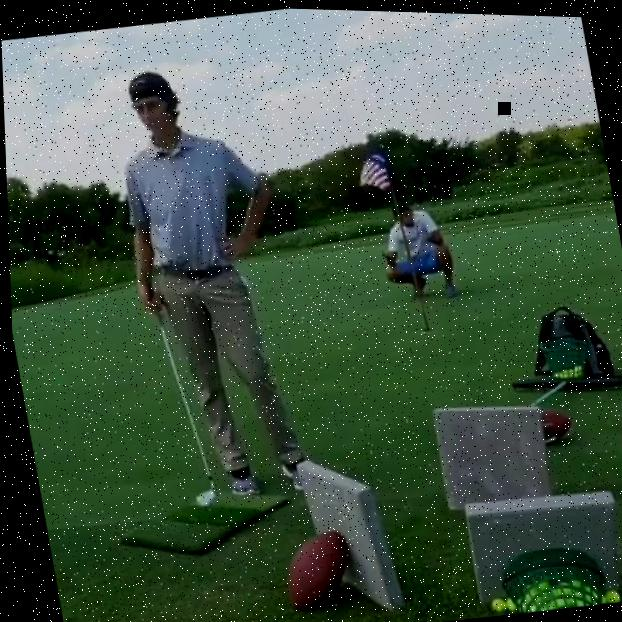ClubHead: (187, 481, 217, 507)
GolfBall: (600, 584, 616, 600), (485, 594, 501, 609), (501, 595, 512, 611), (552, 595, 562, 606), (570, 586, 579, 597), (534, 578, 544, 587), (539, 588, 548, 598), (560, 583, 568, 594), (525, 586, 534, 595), (543, 598, 552, 607), (531, 593, 539, 603), (551, 584, 559, 594), (562, 594, 570, 603), (568, 575, 575, 585), (581, 590, 588, 600), (596, 590, 602, 601), (572, 596, 580, 604), (525, 602, 532, 609), (516, 601, 522, 609), (520, 591, 526, 599), (579, 581, 585, 589), (588, 596, 595, 602), (535, 603, 542, 608), (587, 586, 591, 593)
